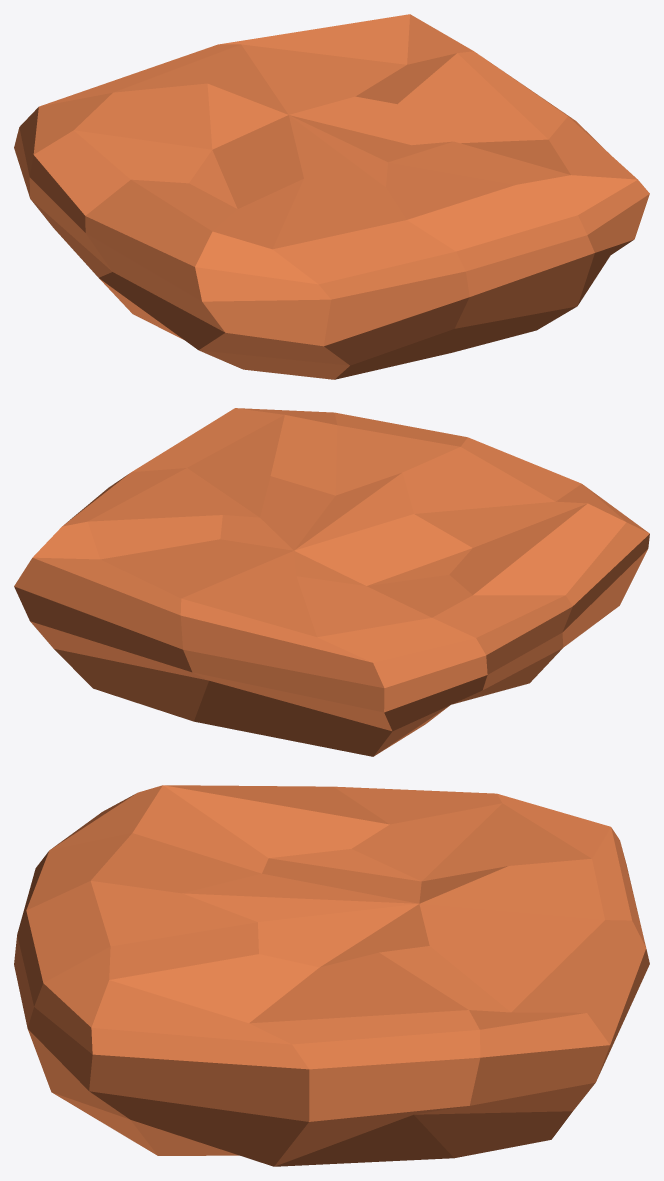
Rendered from Island002.fbx.
The picture shows the model from 3 angles, top to bottom: view 1: azimuth 30°, elevation 25°; view 2: azimuth 150°, elevation 25°; view 3: azimuth 270°, elevation 25°; orthographic projection. The views are drawn at different scales.
Visible parts, largest first — view 1: Cylinder.001; view 2: Cylinder.001; view 3: Cylinder.001.
Part boxes in pixels (x1=…): Cylinder.001: x1=14, y1=14, x2=649, y2=379; Cylinder.001: x1=14, y1=408, x2=649, y2=756; Cylinder.001: x1=14, y1=785, x2=649, y2=1166.
Bounding box in the file's own units: 13.69 × 4.69 × 13.41.
